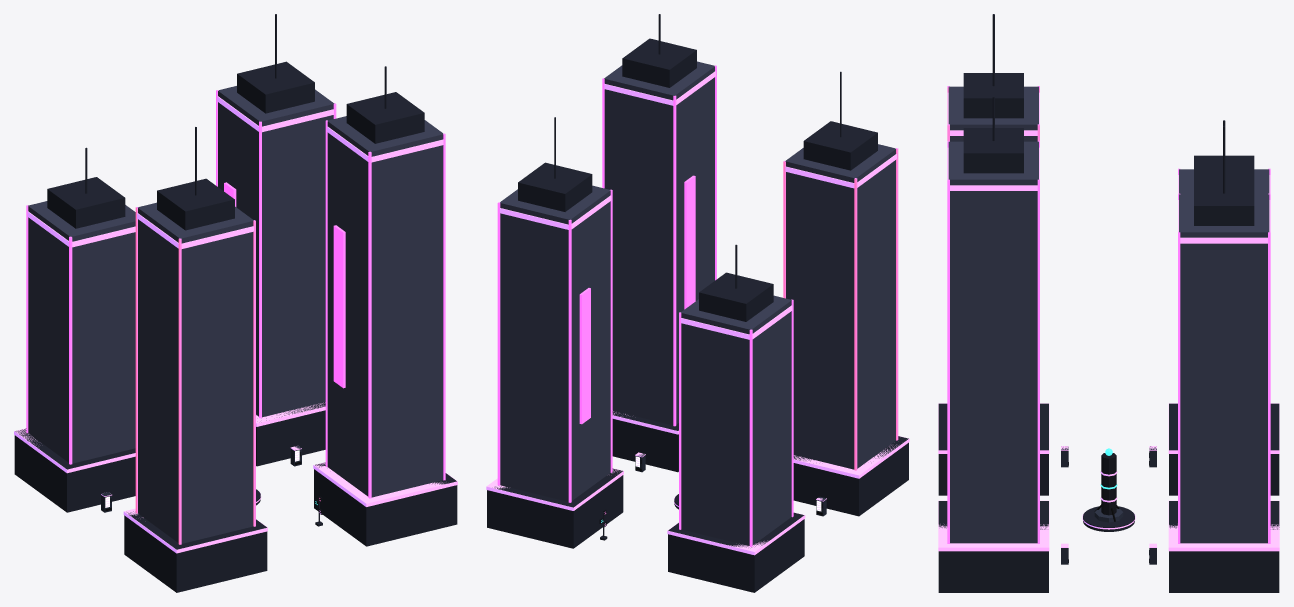
The picture shows the model from 3 angles, left to right: view 1: azimuth 30°, elevation 25°; view 2: azimuth 150°, elevation 25°; view 3: azimuth 270°, elevation 25°; orthographic projection. The views are drawn at different scales.
Parts seen in each view (by area): view 1: district_city_cero.lod0; view 2: district_city_cero.lod0; view 3: district_city_cero.lod0.
Boxes of the visible parts, left/top/right/bottom form: district_city_cero.lod0: left=14, top=14, right=457, bottom=592; district_city_cero.lod0: left=486, top=14, right=909, bottom=592; district_city_cero.lod0: left=938, top=14, right=1279, bottom=592.
Size of the model in its own units: 34.1 by 52.07 by 34.1.
